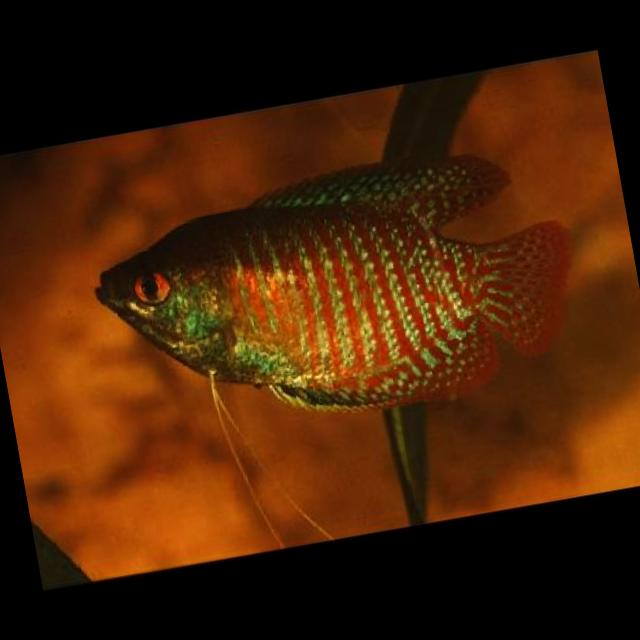Gourami: (75, 128, 596, 457)
